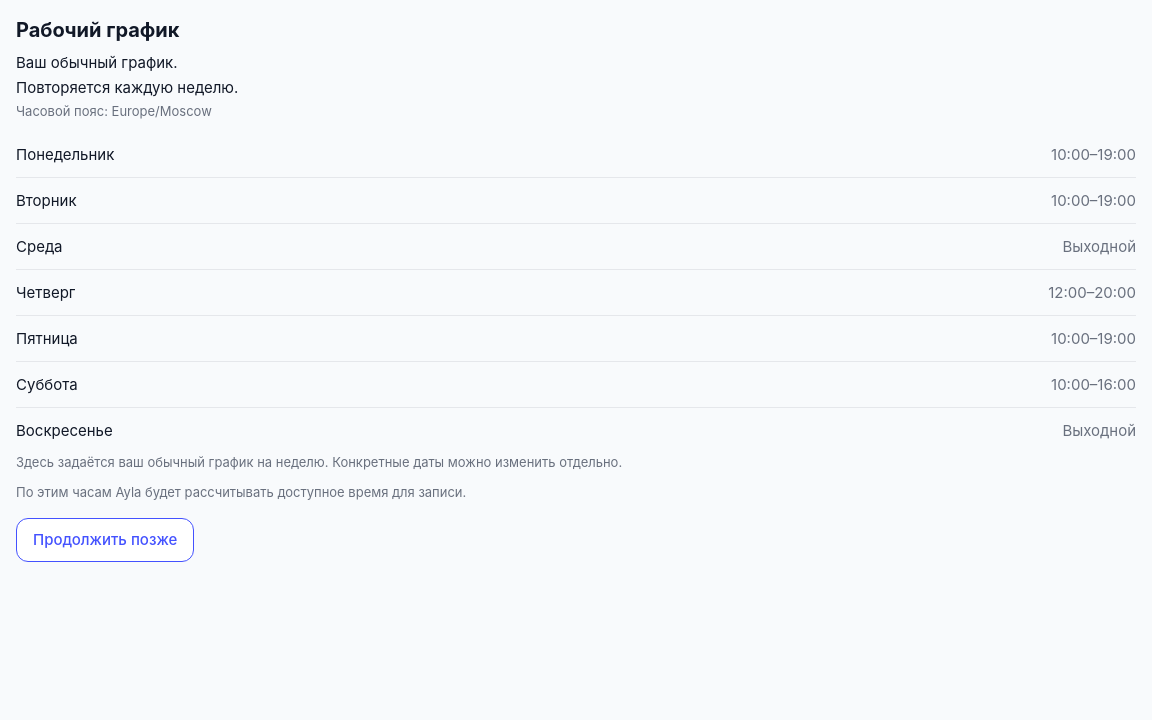
Test: 2 · «Изменить конкретный день» — три варианта макета › метка «Изменение только на этот день» и три именованных варианта
This screenshot has width=1152, height=720.
Click the button "Среда Выходной" at (39, 247), box [16,224,1136,269]
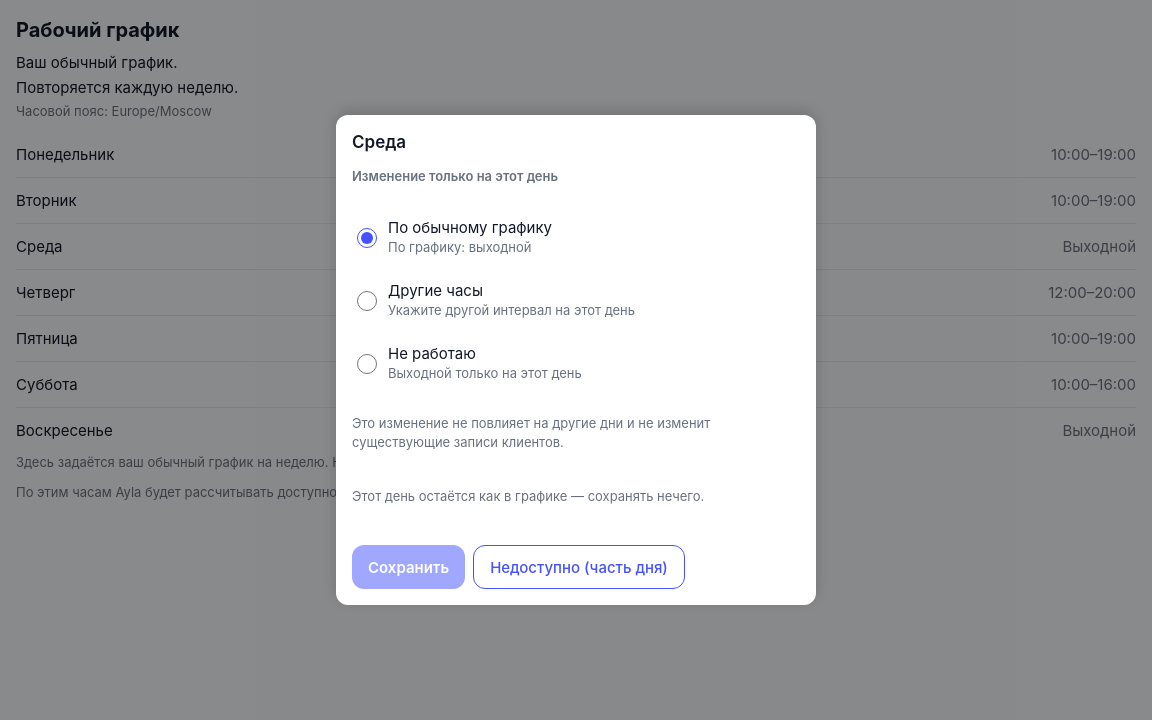
Expected: the text "Изменение только на этот день" is shown, [352,168,558,184]
Expected: the radio button labelled "По обычному графику По графику: выходной" is shown, [357,228,377,248]
Expected: the text "По графику: выходной" is shown, [388,239,531,255]
